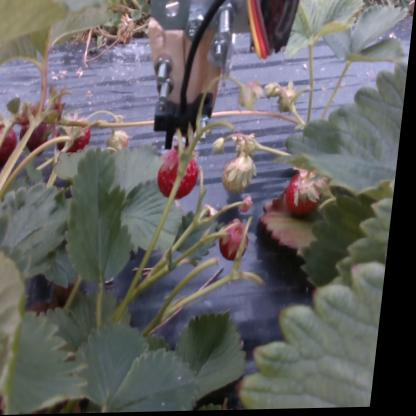ripe: (160, 149, 205, 199), (288, 171, 328, 213), (25, 104, 55, 156), (222, 221, 260, 261), (59, 116, 95, 156), (0, 122, 25, 164)
